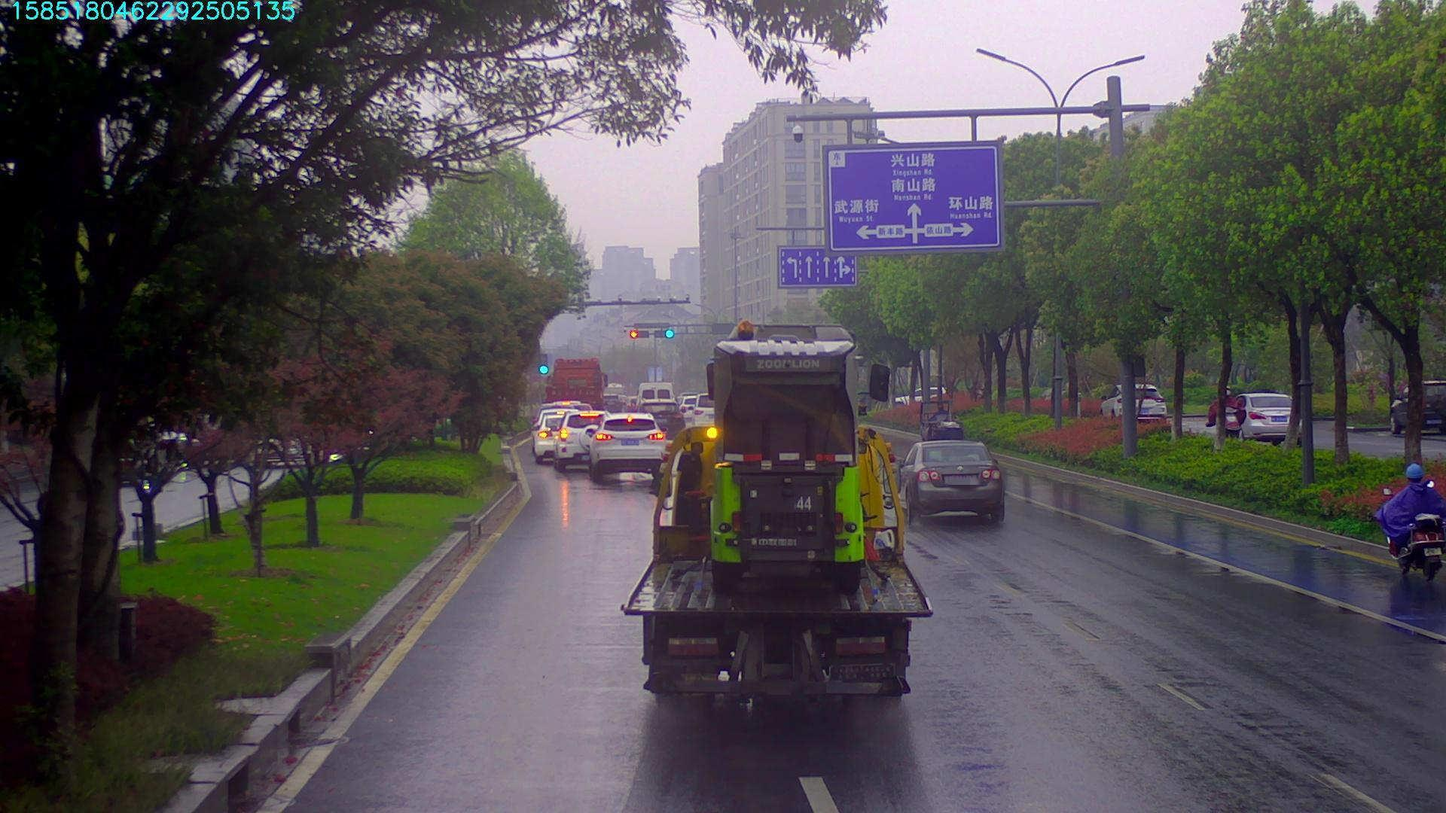green: (656, 327, 678, 339)
red: (625, 326, 649, 337)
